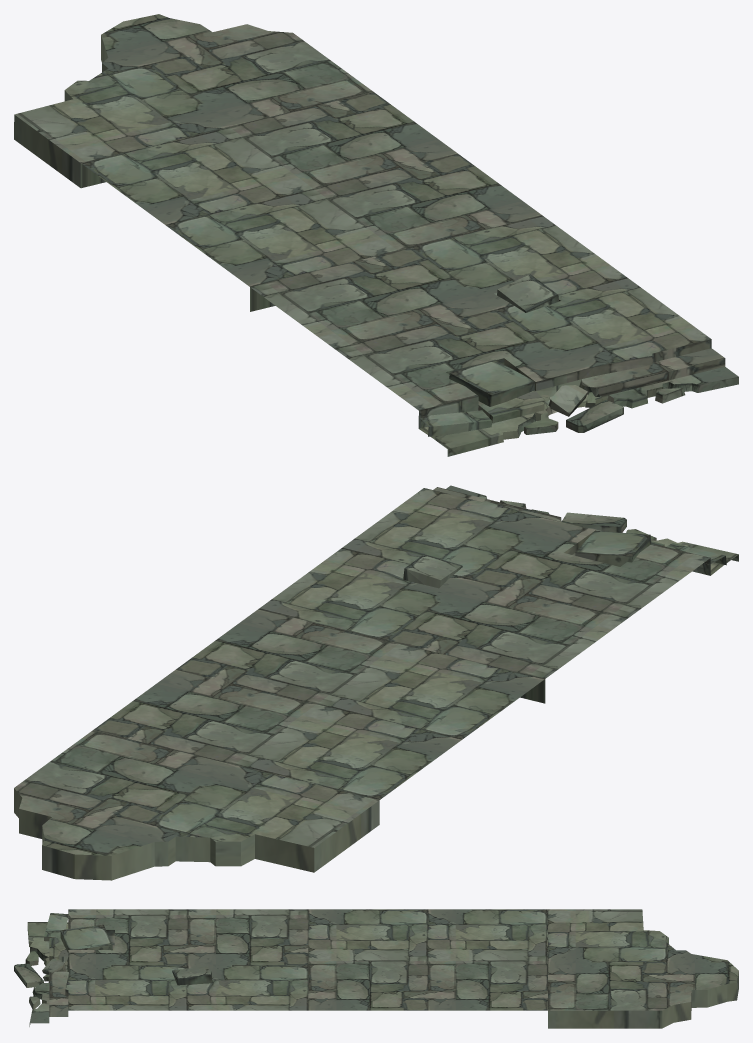
The model's file is 2_YiZhan_ShiQiao_01.FBX.
3 renders of one model, top to bottom at view 1: azimuth 30°, elevation 25°; view 2: azimuth 150°, elevation 25°; view 3: azimuth 270°, elevation 25°, orthographic. The views are drawn at different scales.
Parts seen in each view (by area): view 1: 2_YiZhan_ShiQiao_03, 2_YiZhan_ShiQiao_01, 2_YiZhan_ShiQiao_02; view 2: 2_YiZhan_ShiQiao_03, 2_YiZhan_ShiQiao_01, 2_YiZhan_ShiQiao_02; view 3: 2_YiZhan_ShiQiao_03, 2_YiZhan_ShiQiao_01, 2_YiZhan_ShiQiao_02.
Part boxes in pixels (x1,y1,x2,y2): 2_YiZhan_ShiQiao_03: (250,215,738,456); 2_YiZhan_ShiQiao_01: (80,92,542,286); 2_YiZhan_ShiQiao_02: (14,14,373,187); 2_YiZhan_ShiQiao_03: (259,485,738,703); 2_YiZhan_ShiQiao_01: (93,609,544,799); 2_YiZhan_ShiQiao_02: (14,730,379,880); 2_YiZhan_ShiQiao_03: (14,909,308,1026); 2_YiZhan_ShiQiao_01: (308,909,547,1010); 2_YiZhan_ShiQiao_02: (548,909,738,1028).
Size of the model in its own units: 709 by 83.89 by 2116.
